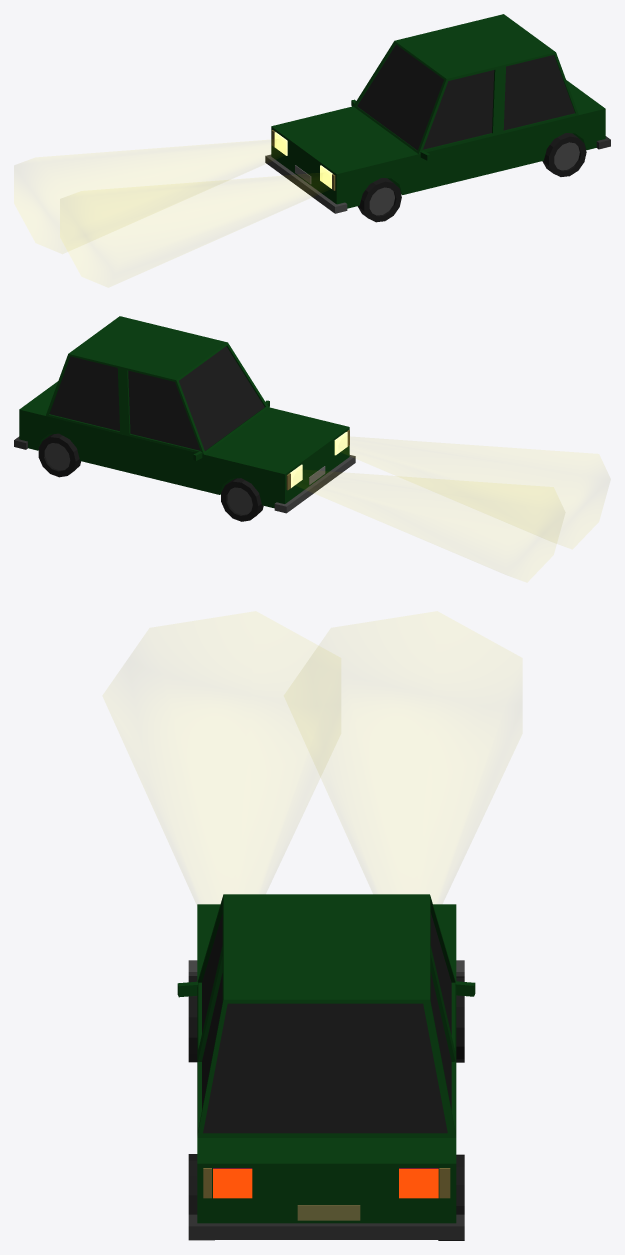
File: mdl_Duc_Car Green Saloon 1.1.glb
3 views of the same model, one above another, from view 1: azimuth 30°, elevation 25°; view 2: azimuth 150°, elevation 25°; view 3: azimuth 270°, elevation 25° (orthographic). The views are drawn at different scales.
Parts seen in each view (by area): view 1: Saloon Green; view 2: Saloon Green; view 3: Saloon Green.
Part boxes in pixels (left/top/right/bottom): Saloon Green: left=60, top=14, right=610, bottom=251; Saloon Green: left=14, top=316, right=565, bottom=543; Saloon Green: left=177, top=646, right=475, bottom=1240.
Size of the model in its own units: 6.18 by 1.37 by 2.22.
Materials: 3 (3 with a texture image).
